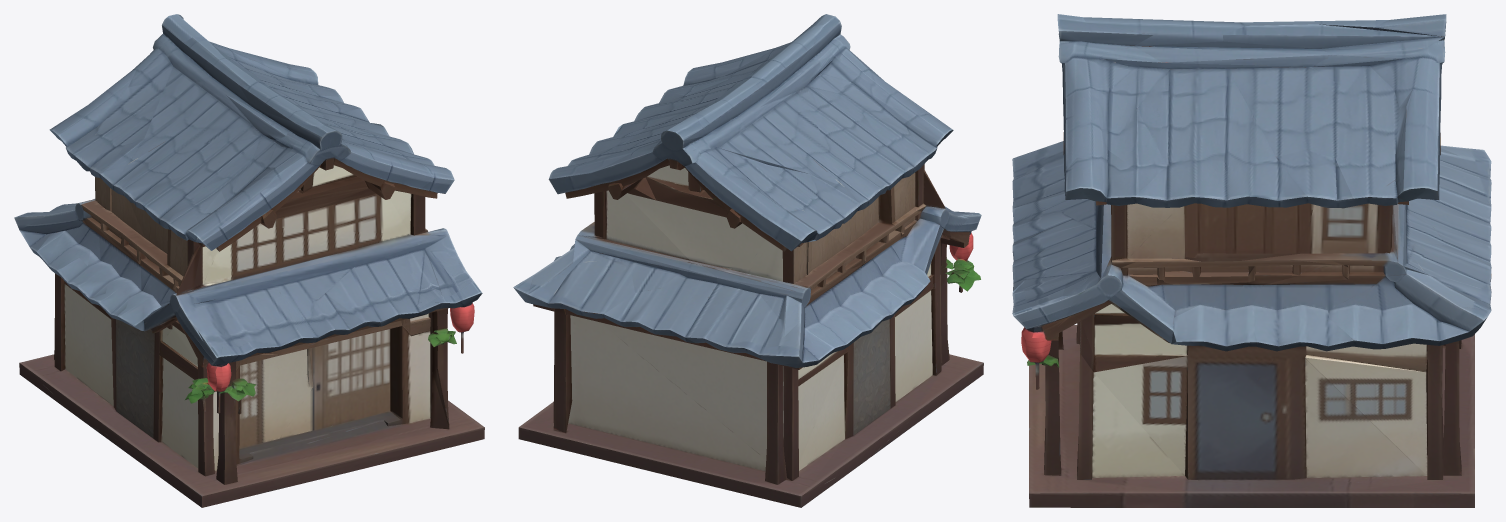
The model's file is inn.glb.
3 views of the same model, side by side, from view 1: azimuth 30°, elevation 25°; view 2: azimuth 150°, elevation 25°; view 3: azimuth 270°, elevation 25° (orthographic). The views are drawn at different scales.
Parts seen in each view (by area): view 1: inn; view 2: inn; view 3: inn.
Part boxes in pixels (x1,y1,x2,y2): inn: [14, 14, 484, 507]; inn: [513, 14, 983, 507]; inn: [1012, 14, 1491, 507].
Bounding box in the file's own units: 7.75 × 8 × 8.53.
1 material, 1 textured.
